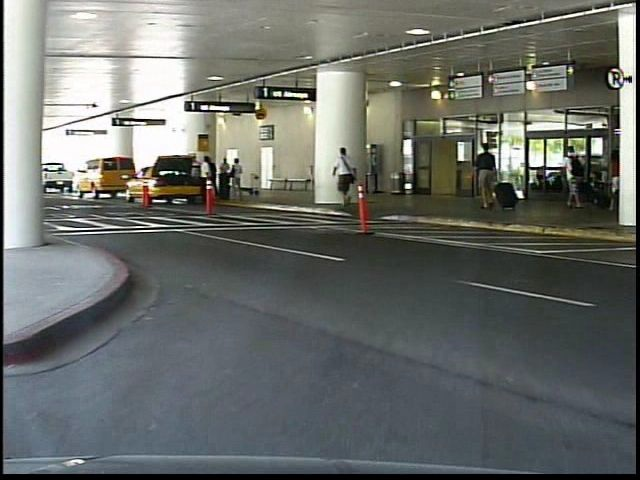person: (557, 138, 594, 218), (476, 140, 506, 216), (337, 145, 367, 211)
